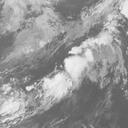cyclone: (56, 54, 98, 94)
